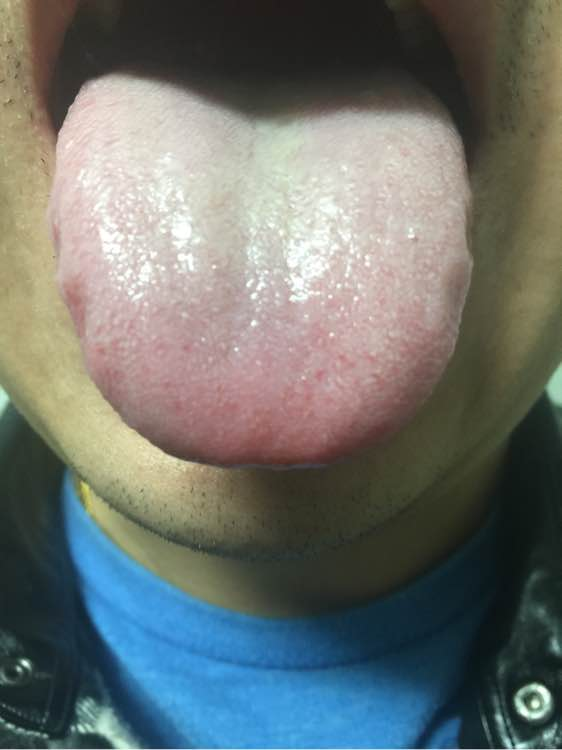baitaishe: (49, 33, 476, 471)
chihenshe: (61, 280, 91, 347)
